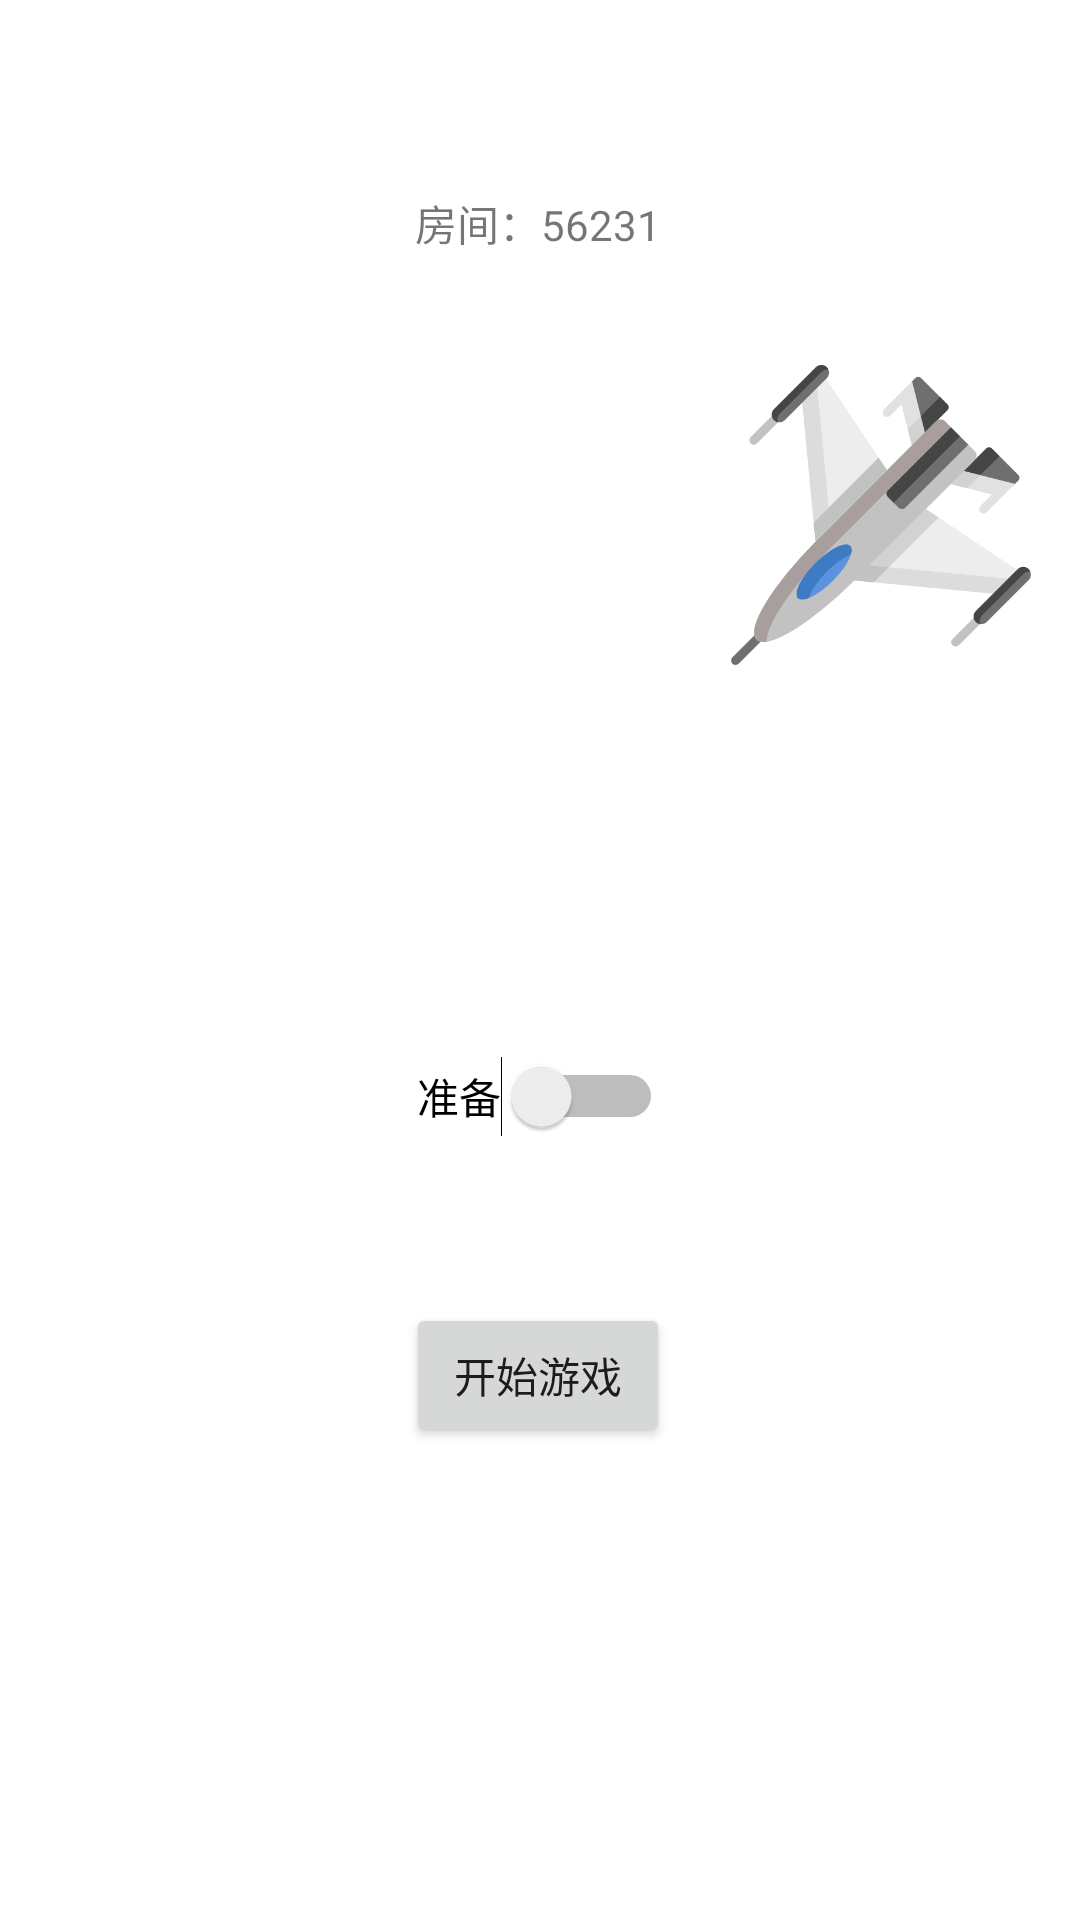

Icon click points for this 1080×1920 phone screenshot, format (x=x, y=y):
jet: (x=881, y=515)
